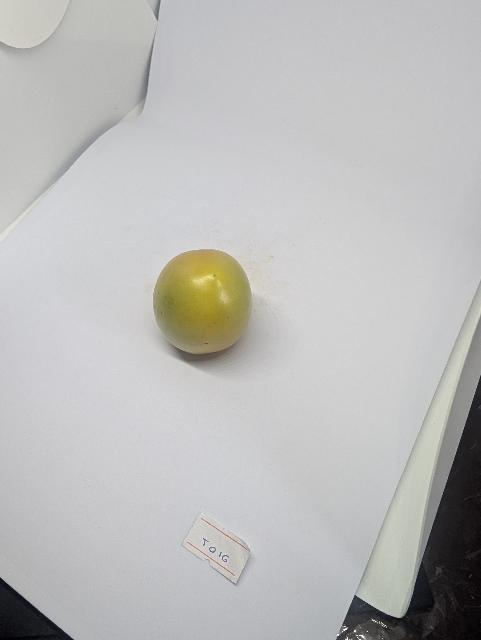breaker: (153, 249, 253, 354)
